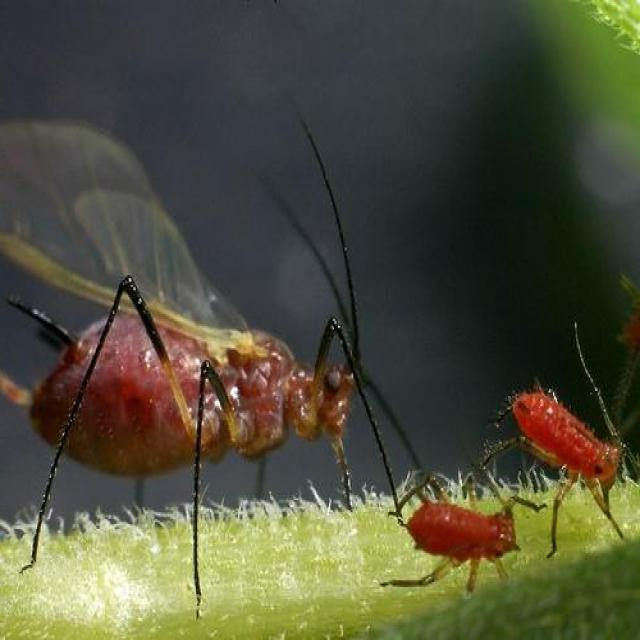aphid: (14, 269, 357, 493), (506, 383, 619, 512), (388, 484, 524, 590)
